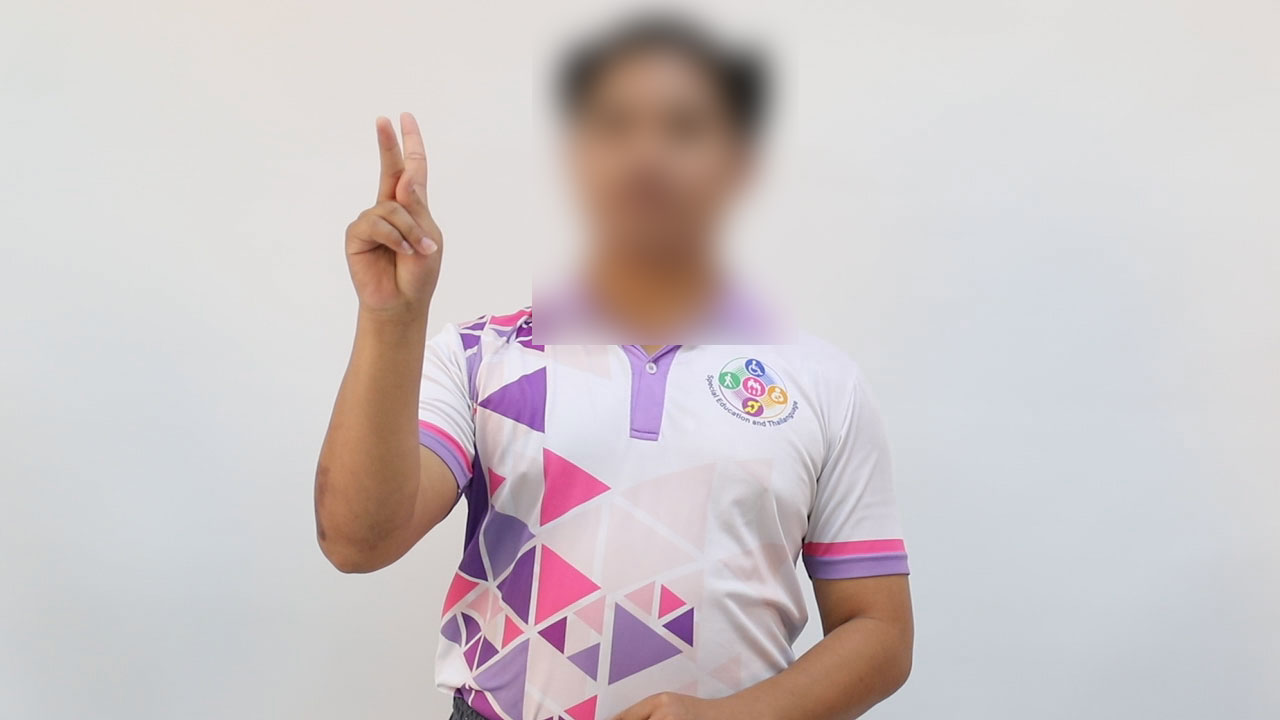ko: (341, 108, 451, 303)
